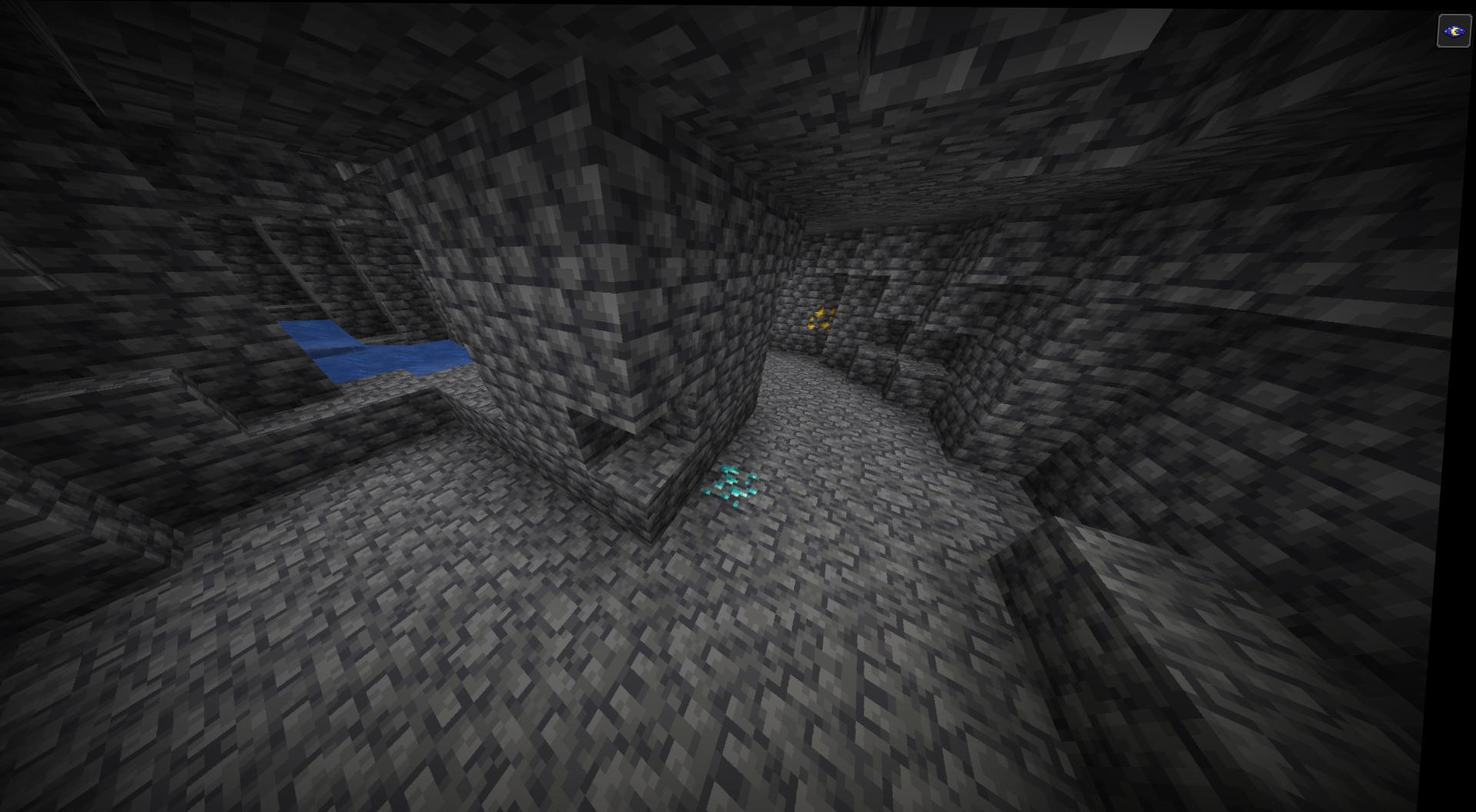diamond ore: (716, 461, 774, 509)
gold ore: (809, 302, 846, 336)
